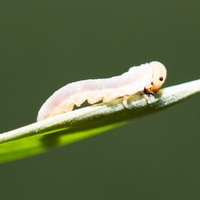insect: (37, 61, 166, 120)
